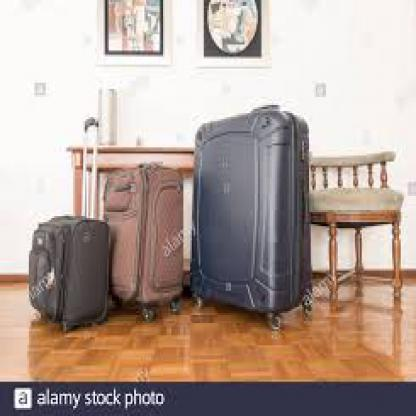maleta: (187, 113, 324, 337), (95, 150, 190, 323), (17, 204, 114, 339)
